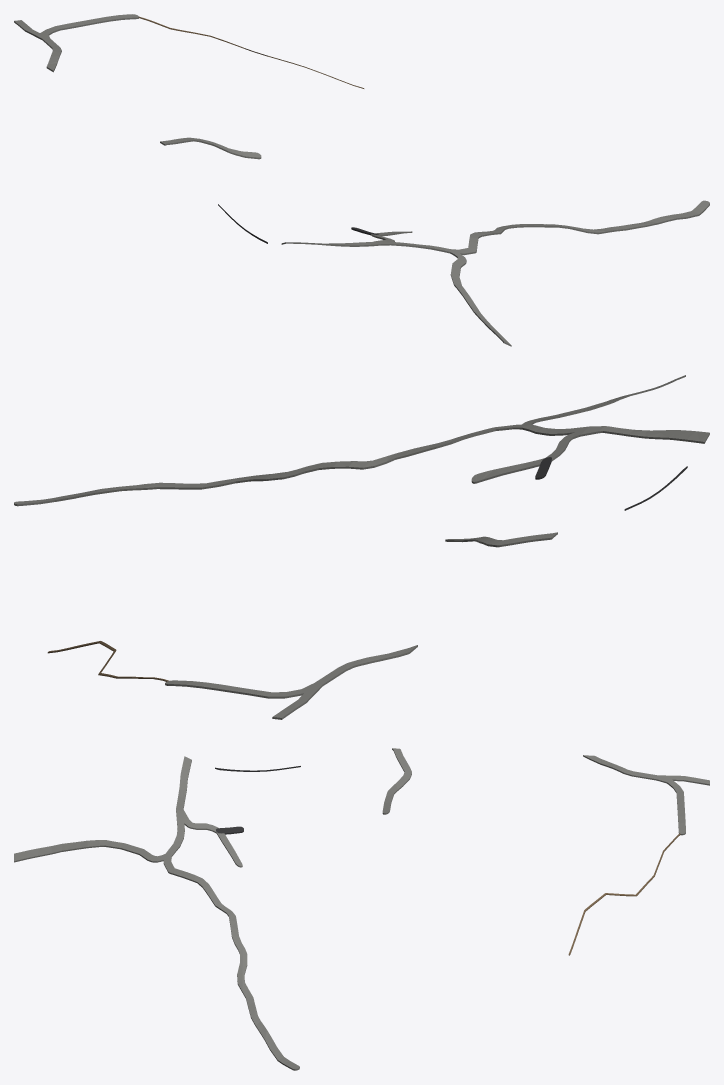
3 views of the same model, one above another, from view 1: azimuth 30°, elevation 25°; view 2: azimuth 150°, elevation 25°; view 3: azimuth 270°, elevation 25° (orthographic). The views are drawn at different scales.
Size of the model in its own units: 405 by 109 by 583.
